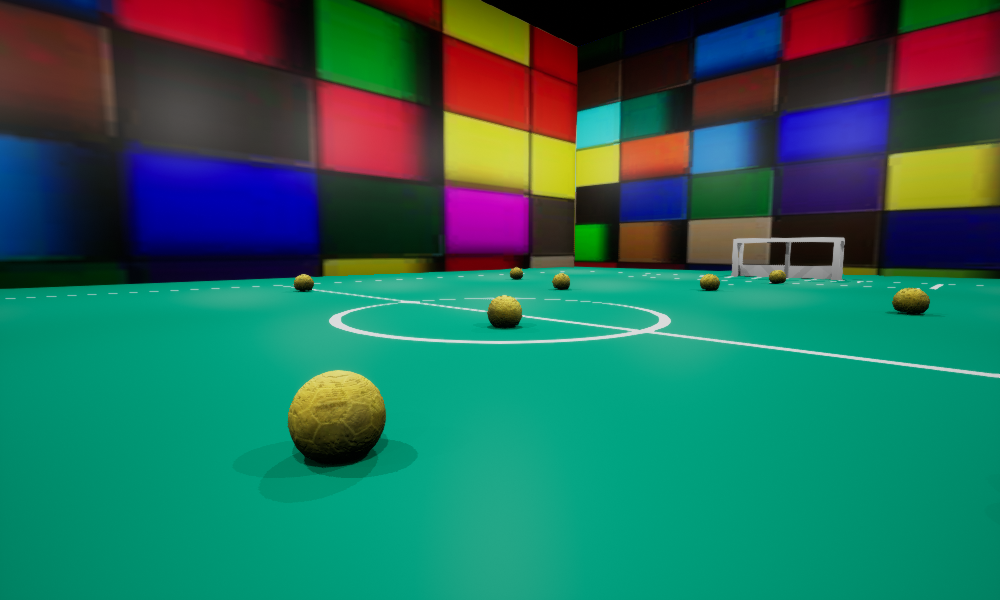b: (288, 370, 385, 463), (487, 295, 521, 327), (892, 288, 929, 314), (294, 274, 313, 290), (700, 274, 719, 290), (552, 273, 569, 289), (769, 270, 785, 282), (510, 267, 522, 278)
g: (731, 237, 844, 279)
